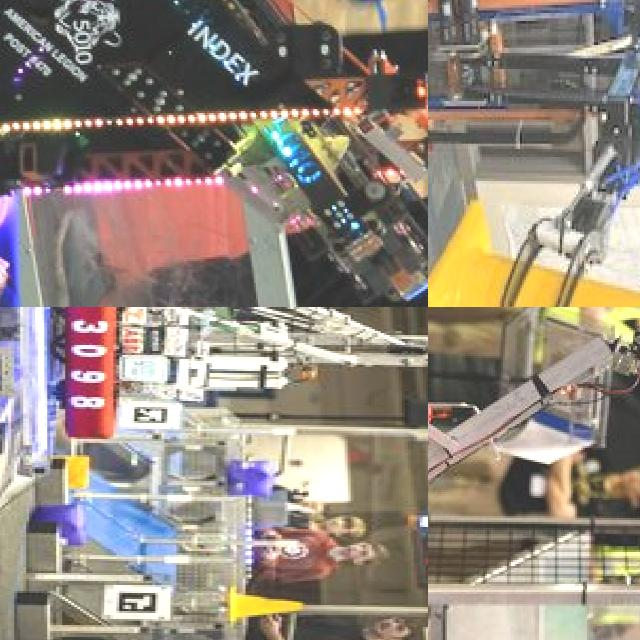FRC-Robots: (0, 0, 428, 307), (428, 307, 640, 640), (428, 0, 640, 307), (49, 307, 424, 463)
